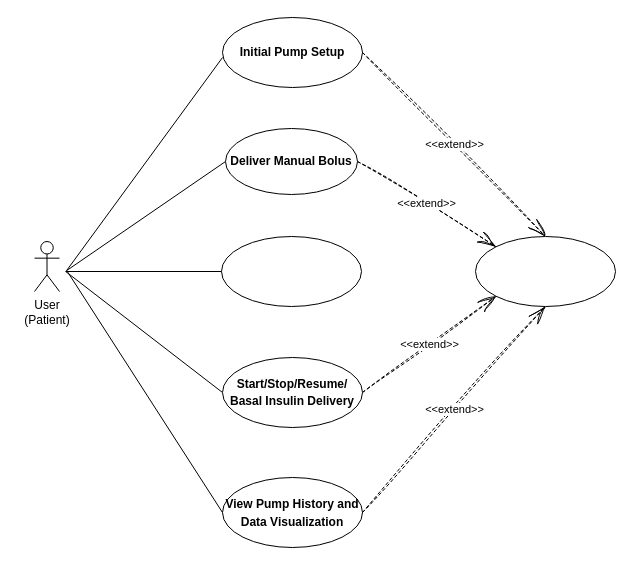
Some shapes in this 633 by 565 pixel diagram are drawn without their labels. Here are the shapes that lost their labels. From the top down, the box of each, then its label:
(220, 236, 362, 306): Manage Personal Profiles
(474, 236, 616, 306): Handle Pump Malfunctions or Errors
